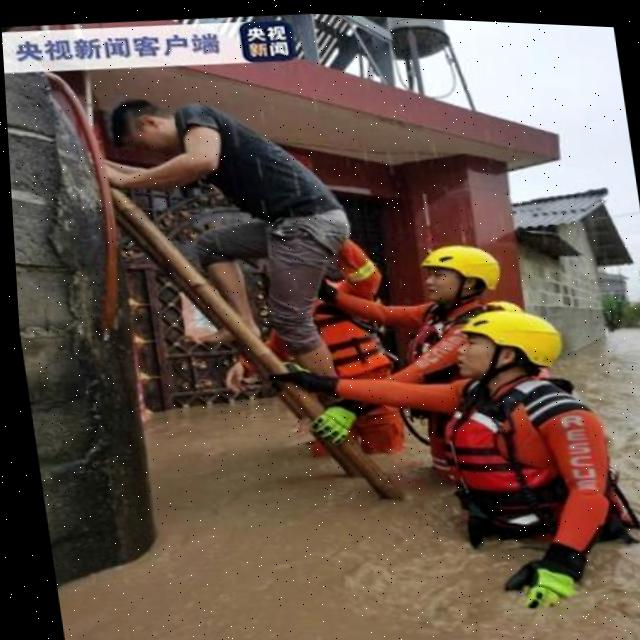civilian: (72, 64, 385, 442)
rescuer: (235, 262, 640, 640), (290, 210, 573, 513), (200, 227, 438, 497)
